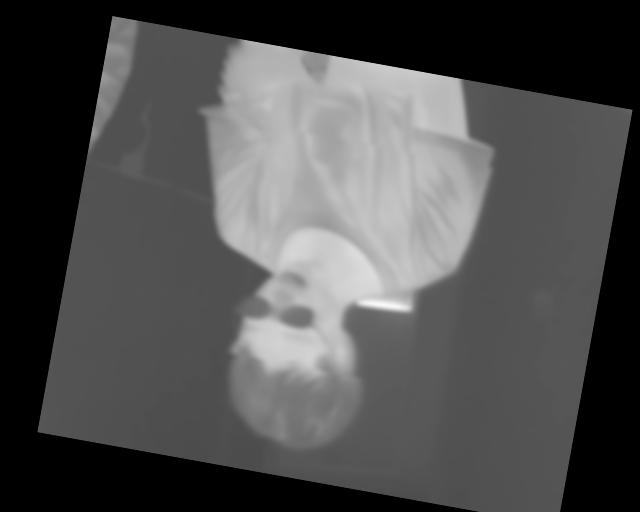face: (210, 249, 385, 460)
